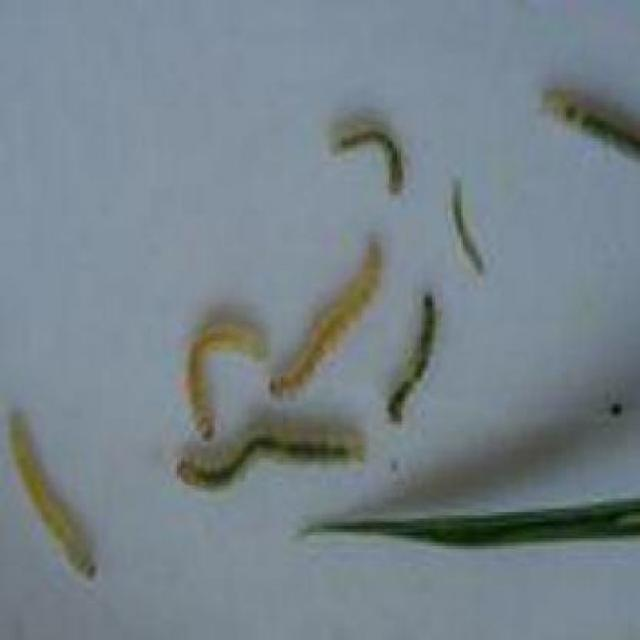leaf-folder: (3, 383, 117, 609), (151, 408, 377, 503), (270, 235, 382, 411), (531, 74, 640, 194), (179, 320, 263, 437), (326, 109, 414, 205), (396, 283, 446, 443), (442, 166, 496, 277)
